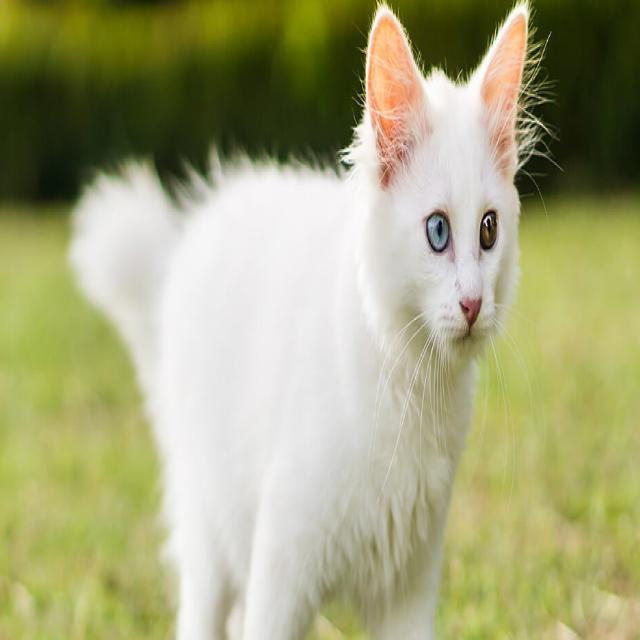Khao Manee: (61, 0, 534, 640)
